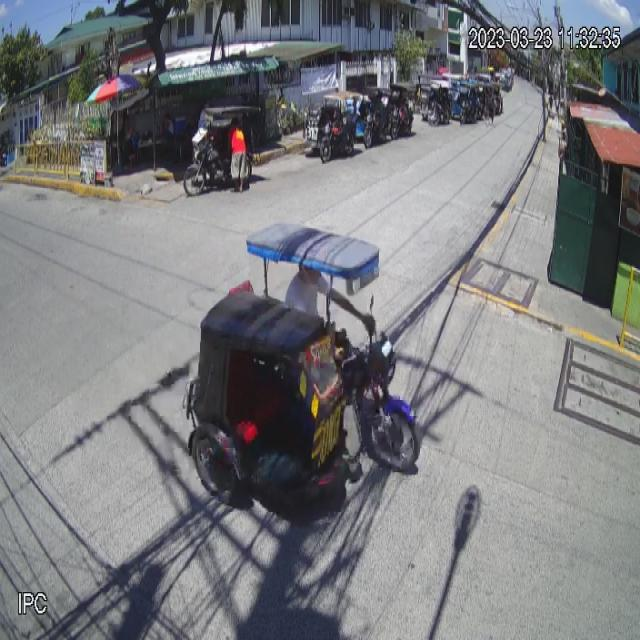Tricycle: (187, 221, 421, 515)
